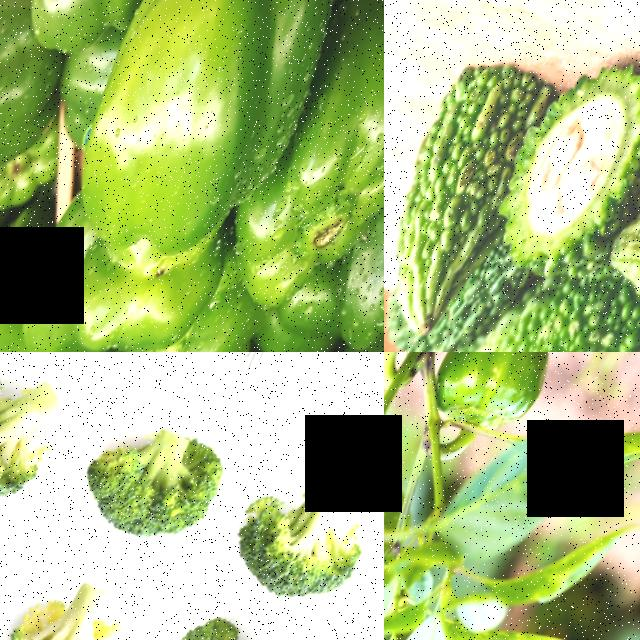bell pepper: (88, 0, 384, 245), (243, 37, 384, 321), (60, 214, 247, 352), (0, 0, 89, 251), (336, 92, 384, 352), (449, 352, 586, 442), (0, 203, 68, 352)
bitter gourd: (384, 0, 605, 352), (485, 31, 640, 335), (458, 291, 640, 352)
broccoli: (58, 400, 258, 593), (203, 445, 384, 638), (0, 352, 113, 549), (0, 553, 177, 640), (129, 583, 346, 640)
